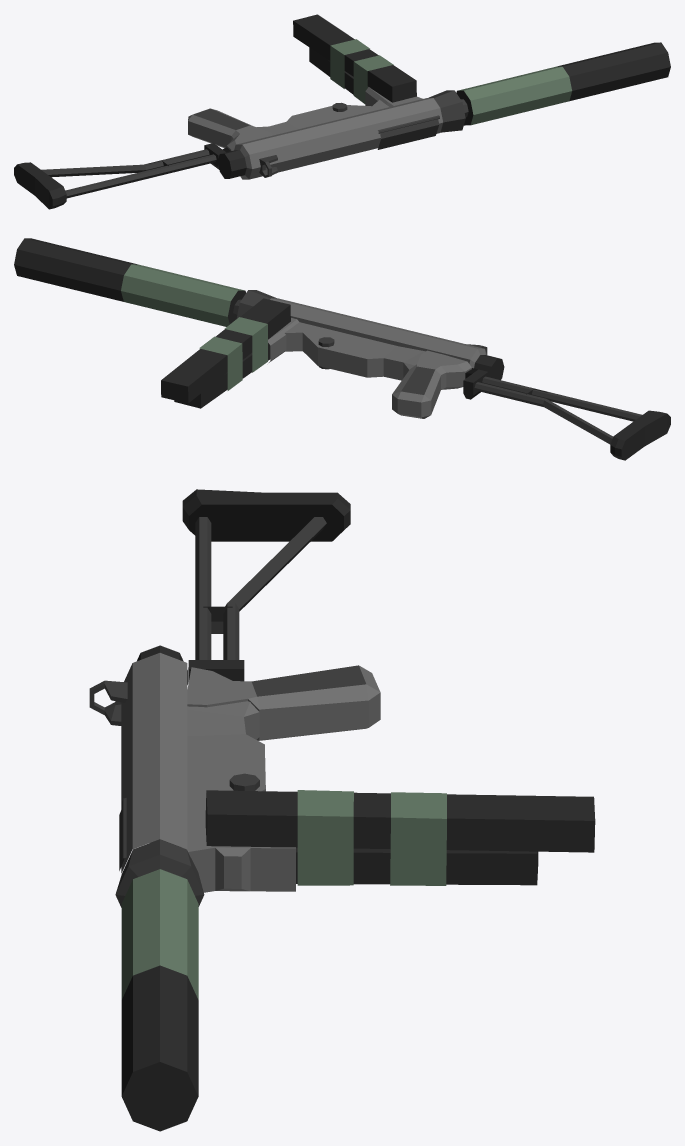
File: GreasegunS_3D.glb
3 renders of one model, top to bottom at view 1: azimuth 30°, elevation 25°; view 2: azimuth 150°, elevation 25°; view 3: azimuth 270°, elevation 25°, orthographic. The views are drawn at different scales.
Visible parts, largest first — view 1: GreaseGunLowPoly; view 2: GreaseGunLowPoly; view 3: GreaseGunLowPoly.
Boxes of the visible parts, x1,y1,x2,y2 form: GreaseGunLowPoly: [14, 14, 670, 209]; GreaseGunLowPoly: [14, 238, 670, 460]; GreaseGunLowPoly: [89, 489, 595, 1131].
Size of the model in its own units: 1.16 by 0.0874 by 0.4202.
1 material, 1 textured.
